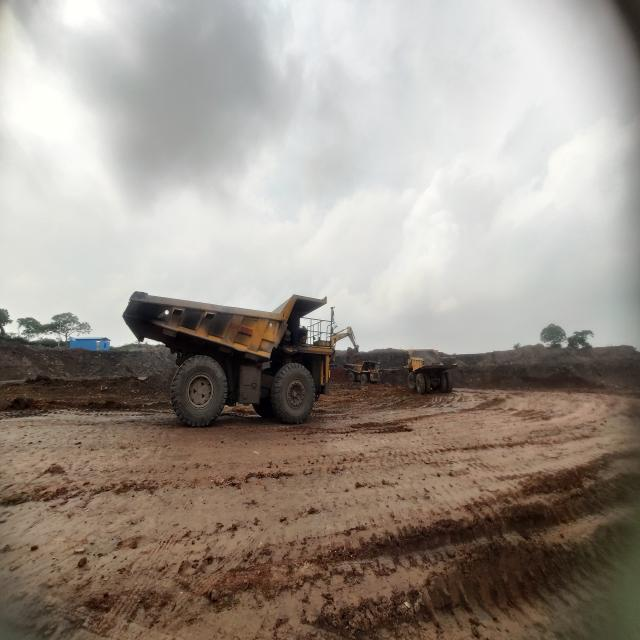dump_truck: (123, 292, 334, 429), (406, 349, 455, 394), (342, 359, 383, 386)
excavator: (332, 325, 360, 358)
